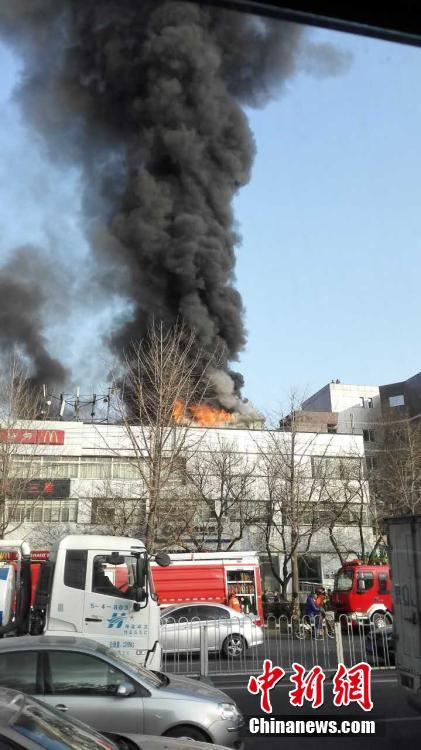fire: (151, 404, 263, 434)
smoke: (45, 15, 255, 375)
